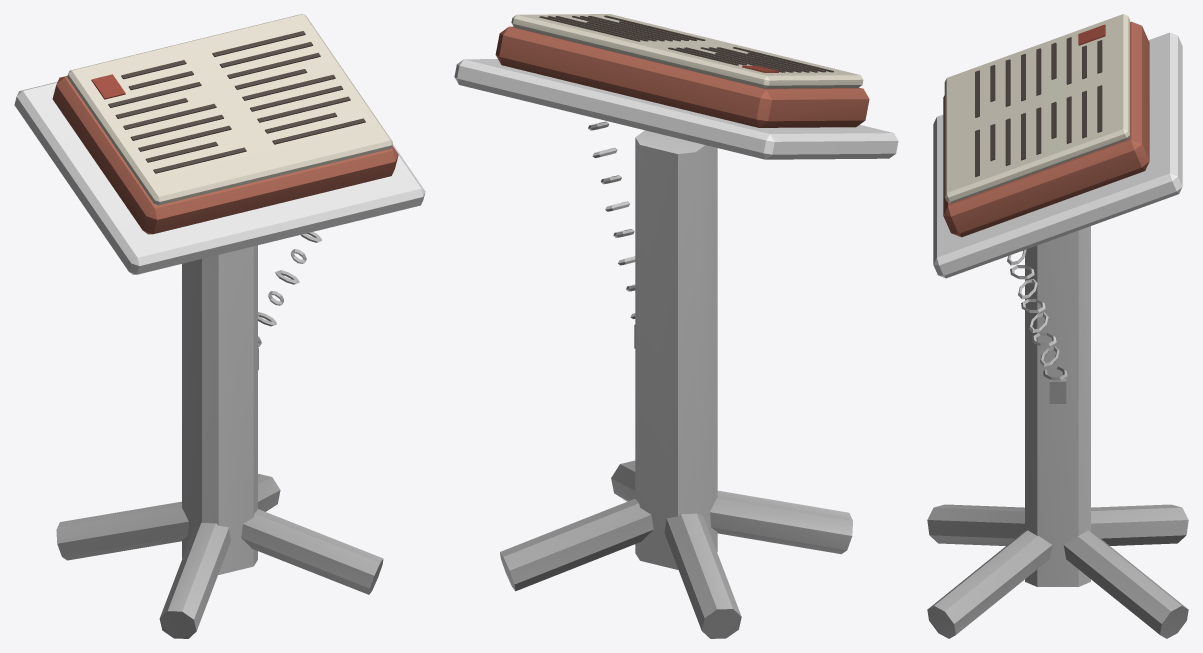
Rendered from chained_book.glb.
The picture shows the model from 3 angles, left to right: view 1: azimuth 30°, elevation 25°; view 2: azimuth 150°, elevation 25°; view 3: azimuth 270°, elevation 25°; orthographic projection. The views are drawn at different scales.
Visible parts, largest first — view 1: big_book; view 2: big_book; view 3: big_book.
Boxes of the visible parts, x1,y1,x2,y2 form: big_book: (14, 14, 425, 638); big_book: (454, 14, 898, 638); big_book: (927, 14, 1188, 638).
Bounding box in the file's own units: 0.84 × 1.39 × 0.6352.
